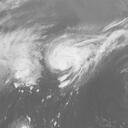cyclone: (45, 29, 100, 75)
